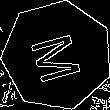M_E: (26, 26, 88, 85)
